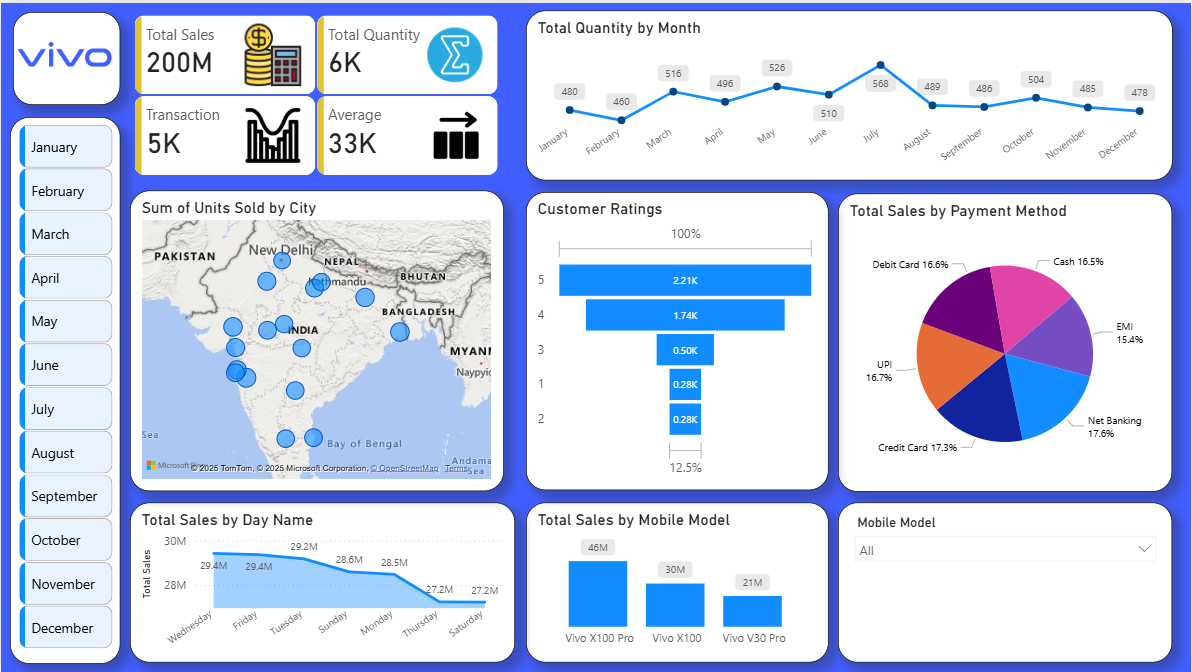

What the dashboard file says about the page in this screenshot:
{"tool":"powerbi","page":{"name":"Page 1","canvas":[1280,720],"ordinal":0},"visuals":[{"type":"shape","box":[12.5,9.4,115.7,100],"z":0},{"type":"image","box":[12.5,9.4,111,90.7],"z":1000},{"type":"shape","box":[9.4,121.9,118.8,587.7],"z":2000},{"type":"advancedSlicerVisual","fields":{"Values":["5k_vivo_transactions1.Date.Variation.Date Hierarchy.Month"]},"box":[14.1,126.6,111,583],"z":3000},{"type":"cardVisual","fields":{"Data":["Sales_data.Total Sales","Sales_data.Total Quantity","Sales_data.Transaction","Sales_data.Average"]},"box":[139.1,7.8,401.7,182.9],"z":4000},{"type":"lineChart","fields":{"Category":["Sales_data.Date.Variation.Date Hierarchy.Month","Sales_data.Date.Variation.Date Hierarchy.Day"],"Y":["Sales_data.Total Quantity"]},"box":[564.2,7.8,695.5,182.9],"z":6000},{"type":"clusteredColumnChart","fields":{"Category":["Sales_data.Mobile Model"],"Y":["Sales_data.Total Sales"]},"box":[564.2,537.7,325.1,171.9],"z":7000},{"type":"pieChart","fields":{"Category":["Sales_data.Payment Method"],"Y":["Sales_data.Total Sales"]},"box":[900.3,204.8,359.5,320.4],"z":8000},{"type":"funnel","title":"Customer Ratings","fields":{"Category":["Sales_data.Customer Ratings"],"Y":["CountNonNull(Sales_data.Customer Ratings)"]},"box":[564.2,203.2,325.1,320.4],"z":9000},{"type":"areaChart","fields":{"Category":["Sales_data.Day Name"],"Y":["Sales_data.Total Sales"]},"box":[139.1,537.7,414.2,171.9],"z":10000},{"type":"slicer","fields":{"Values":["Sales_data.Mobile Model"]},"box":[900.3,537.7,359.5,171.9],"z":11000},{"type":"map","fields":{"Category":["Sales_data.City"],"Size":["Sum(Sales_data.Units Sold)"]},"box":[139.1,201.6,401.7,323.5],"z":11001}]}

Visuals, with their boxes in screenshot pixels (x1, y1, x2, y2), scaled from the page's 1280x720 canvas onto the 1192x672 screenshot:
shape: (x1=12, y1=9, x2=119, y2=102)
image: (x1=12, y1=9, x2=115, y2=93)
shape: (x1=9, y1=114, x2=119, y2=662)
advancedSlicerVisual - 5k_vivo_transactions1.Date.Variation.Date Hierarchy.Month: (x1=13, y1=118, x2=116, y2=662)
cardVisual - Sales_data.Total Sales x Sales_data.Total Quantity: (x1=130, y1=7, x2=504, y2=178)
lineChart - Sales_data.Date.Variation.Date Hierarchy.Month x Sales_data.Date.Variation.Date Hierarchy.Day: (x1=525, y1=7, x2=1173, y2=178)
clusteredColumnChart - Sales_data.Mobile Model x Sales_data.Total Sales: (x1=525, y1=502, x2=828, y2=662)
pieChart - Sales_data.Payment Method x Sales_data.Total Sales: (x1=838, y1=191, x2=1173, y2=490)
"Customer Ratings" funnel: (x1=525, y1=190, x2=828, y2=489)
areaChart - Sales_data.Day Name x Sales_data.Total Sales: (x1=130, y1=502, x2=515, y2=662)
slicer - Sales_data.Mobile Model: (x1=838, y1=502, x2=1173, y2=662)
map - Sales_data.City x Sum(Sales_data.Units Sold): (x1=130, y1=188, x2=504, y2=490)
